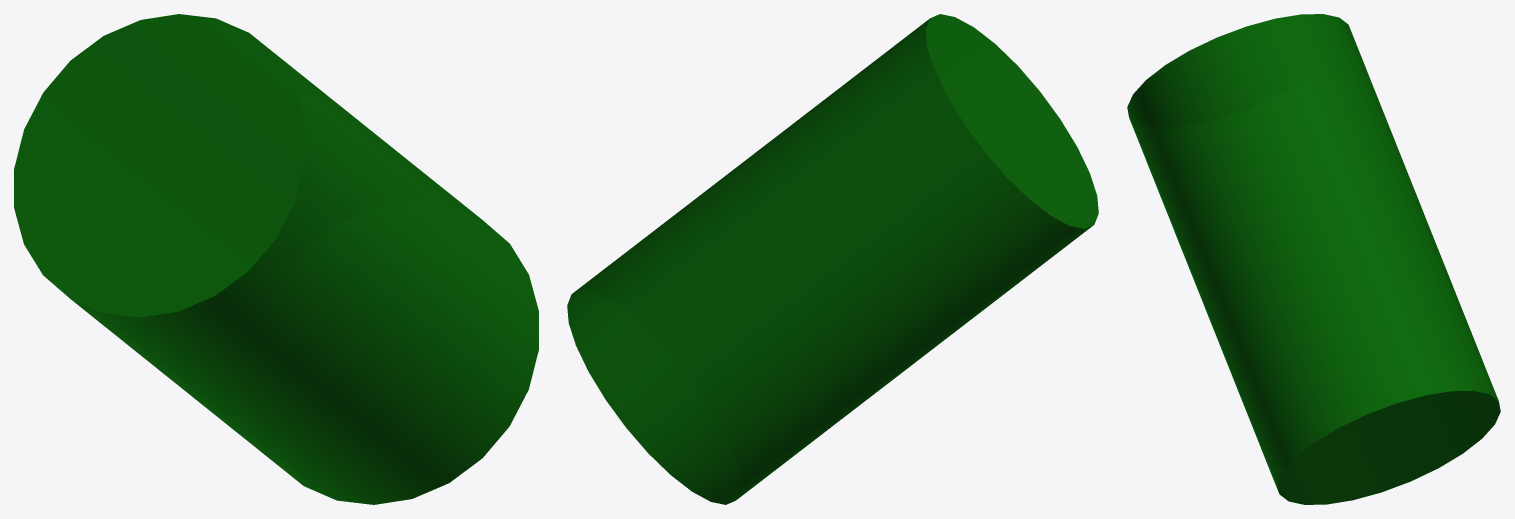
Rendered from Event_421364160_jet_3.fbx.
The picture shows the model from 3 angles, left to right: view 1: azimuth 30°, elevation 25°; view 2: azimuth 150°, elevation 25°; view 3: azimuth 270°, elevation 25°; orthographic projection. The views are drawn at different scales.
Visible parts, largest first — view 1: Model; view 2: Model; view 3: Model.
Part boxes in pixels (x1=…): Model: x1=14, y1=14, x2=538, y2=504; Model: x1=567, y1=14, x2=1098, y2=504; Model: x1=1127, y1=14, x2=1500, y2=504.
Size of the model in its own units: 0.0777 by 0.0774 by 0.0626.
